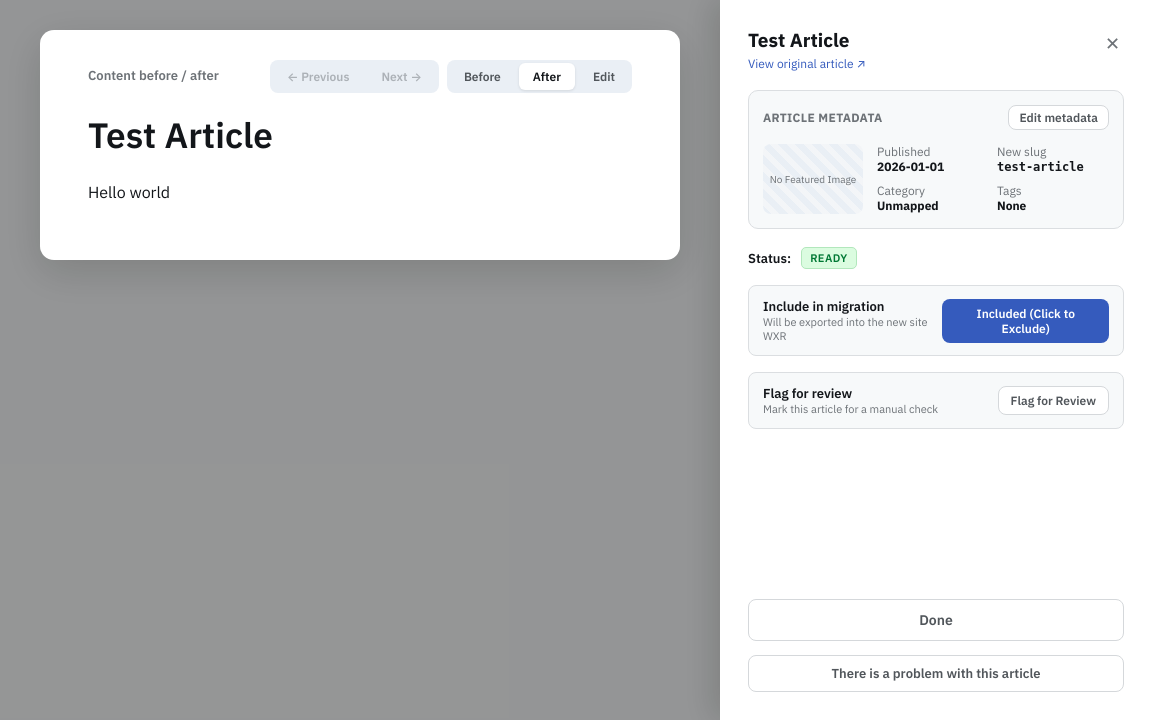
ArticleDrawer category/tag options › finds the category/tag options by the table's WordPress taxonomy domain, not its internal id
Step 1. Click the button "Edit metadata" → (1059, 118), box [1008,105,1109,130]
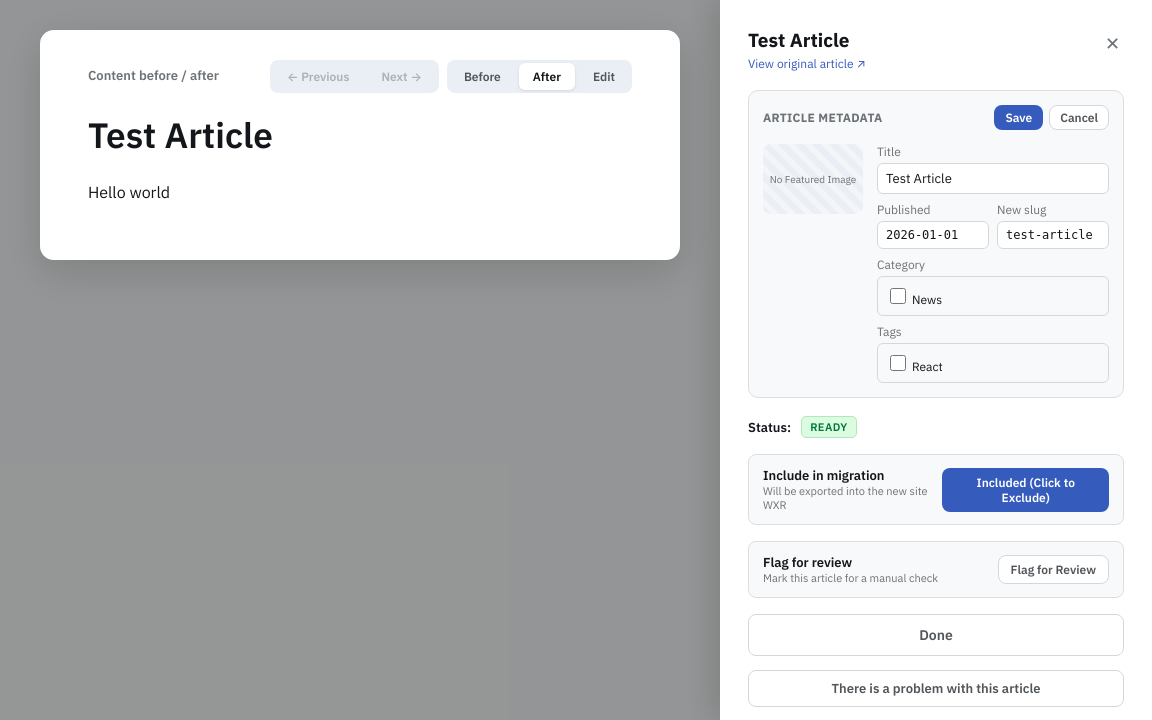
Expected: the text "News" is shown, [890,288,942,307]
Expected: the text "React" is shown, [890,355,943,374]
